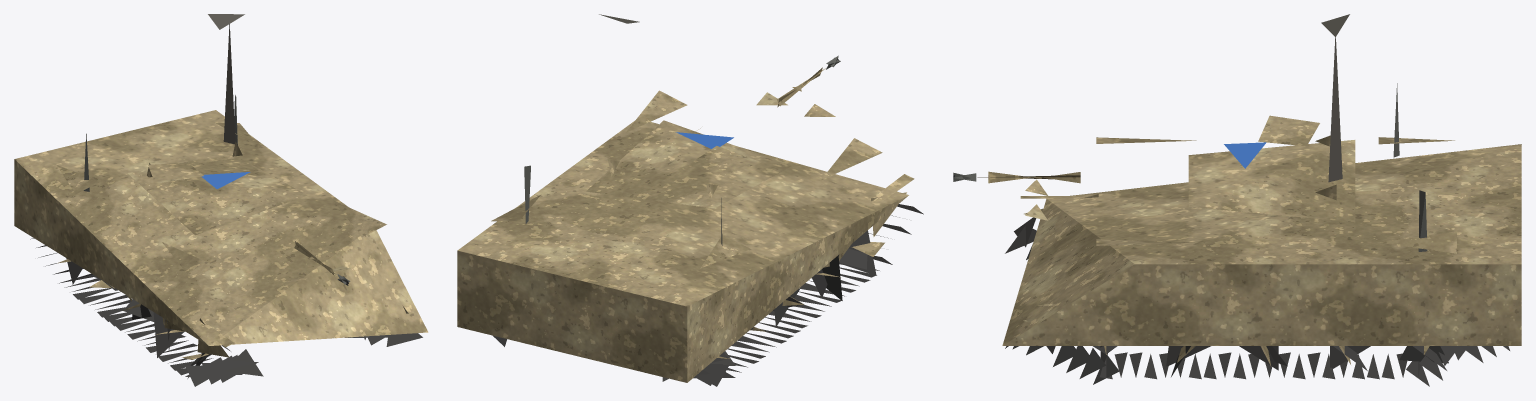
Rendered from rec_e4_us_recon_LOD2.glb.
The picture shows the model from 3 angles, left to right: view 1: azimuth 30°, elevation 25°; view 2: azimuth 150°, elevation 25°; view 3: azimuth 270°, elevation 25°; orthographic projection. The views are drawn at different scales.
Visible parts, largest first — view 1: rec_e4_us_recon_LOD2_body, rec_e4_us_recon_LOD2_track, rec_e4_us_recon_LOD2_deck, rec_e4_us_recon_LOD2_team, rec_e4_us_recon_LOD2_gun; view 2: rec_e4_us_recon_LOD2_body, rec_e4_us_recon_LOD2_track, rec_e4_us_recon_LOD2_gun, rec_e4_us_recon_LOD2_team; view 3: rec_e4_us_recon_LOD2_body, rec_e4_us_recon_LOD2_track, rec_e4_us_recon_LOD2_deck, rec_e4_us_recon_LOD2_gun, rec_e4_us_recon_LOD2_team.
Boxes of the visible parts, x1,y1,x2,y2 form: rec_e4_us_recon_LOD2_body: (14,110,428,359); rec_e4_us_recon_LOD2_track: (30,238,422,386); rec_e4_us_recon_LOD2_deck: (208,14,244,144); rec_e4_us_recon_LOD2_team: (201,172,250,189); rec_e4_us_recon_LOD2_gun: (83,95,350,285); rec_e4_us_recon_LOD2_body: (457,67,914,382); rec_e4_us_recon_LOD2_track: (493,204,923,386); rec_e4_us_recon_LOD2_gun: (524,55,840,245); rec_e4_us_recon_LOD2_team: (676,132,733,148); rec_e4_us_recon_LOD2_body: (977,115,1521,366); rec_e4_us_recon_LOD2_track: (1005,217,1509,386); rec_e4_us_recon_LOD2_deck: (1321,14,1349,182); rec_e4_us_recon_LOD2_gun: (953,83,1427,251); rec_e4_us_recon_LOD2_team: (1224,142,1266,168).
Size of the model in its own units: 2.9 by 3.67 by 5.8.
6 materials, 1 textured.
